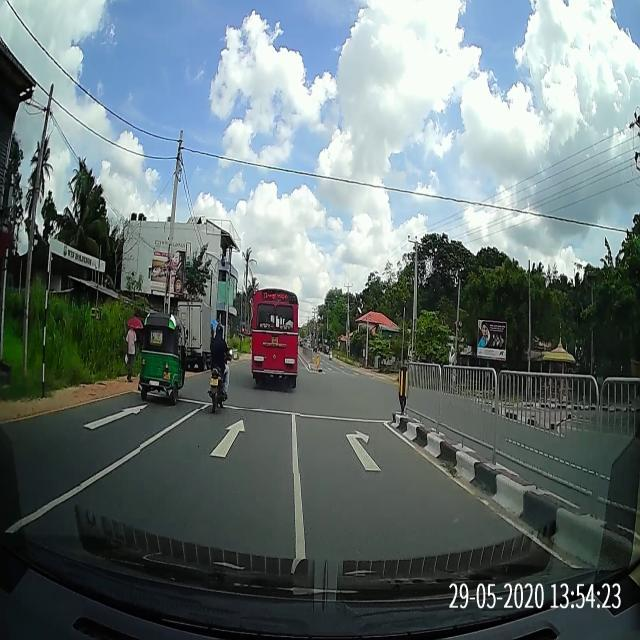forward: (141, 410, 300, 473)
right: (294, 423, 447, 473)
